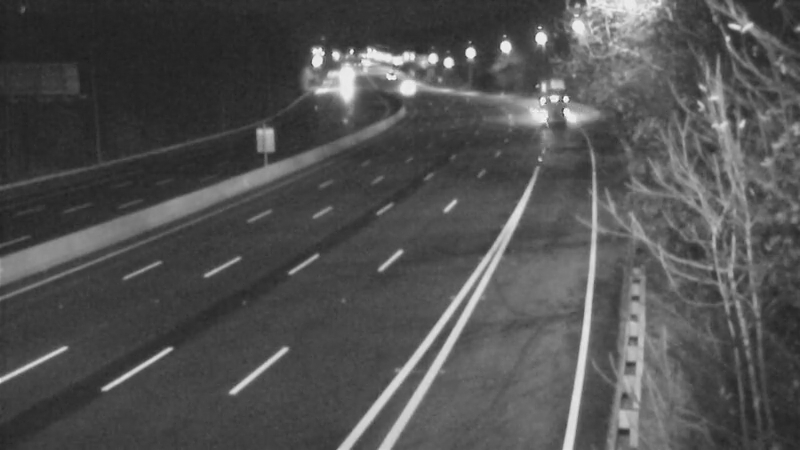vehicle: (385, 63, 435, 113), (516, 79, 566, 129), (319, 57, 369, 107)
